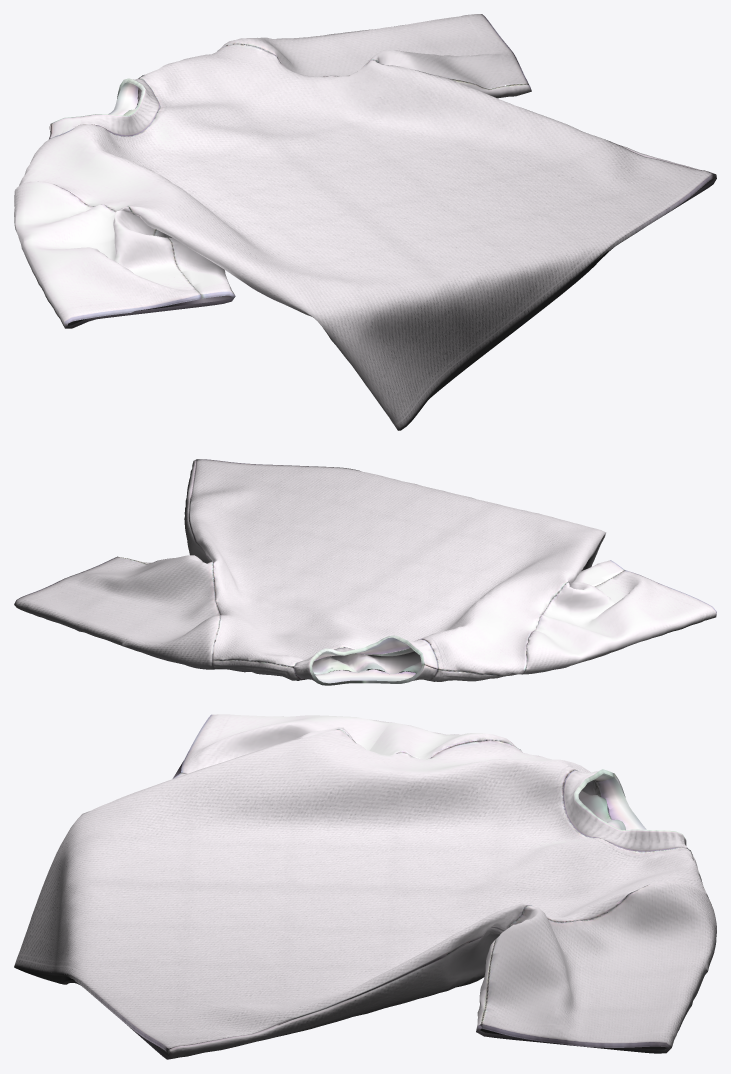
The model's file is Oversized.glb.
3 views of the same model, one above another, from view 1: azimuth 30°, elevation 25°; view 2: azimuth 150°, elevation 25°; view 3: azimuth 270°, elevation 25° (orthographic). The views are drawn at different scales.
Visible parts, largest first — view 1: TShirt4; view 2: TShirt4; view 3: TShirt4.
Part boxes in pixels (<box>): TShirt4: <box>14,14,716,430</box>; TShirt4: <box>14,459,716,685</box>; TShirt4: <box>14,714,716,1059</box>.
Bounding box in the file's own units: 0.9174 × 0.2202 × 0.7846.
1 material, 1 textured.
